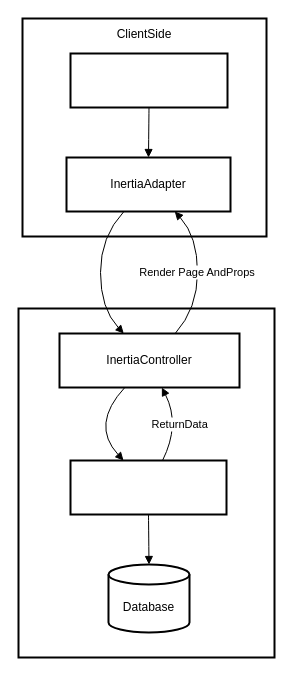
The diagram is 292 pixels wide and 675 high, and some of its shapes have lost their labels. Here are the shapes that lost their labels. From the top down, the centre of each, then its label:
(x=148, y=80): UserInterface
(x=148, y=487): BusinessLogic
